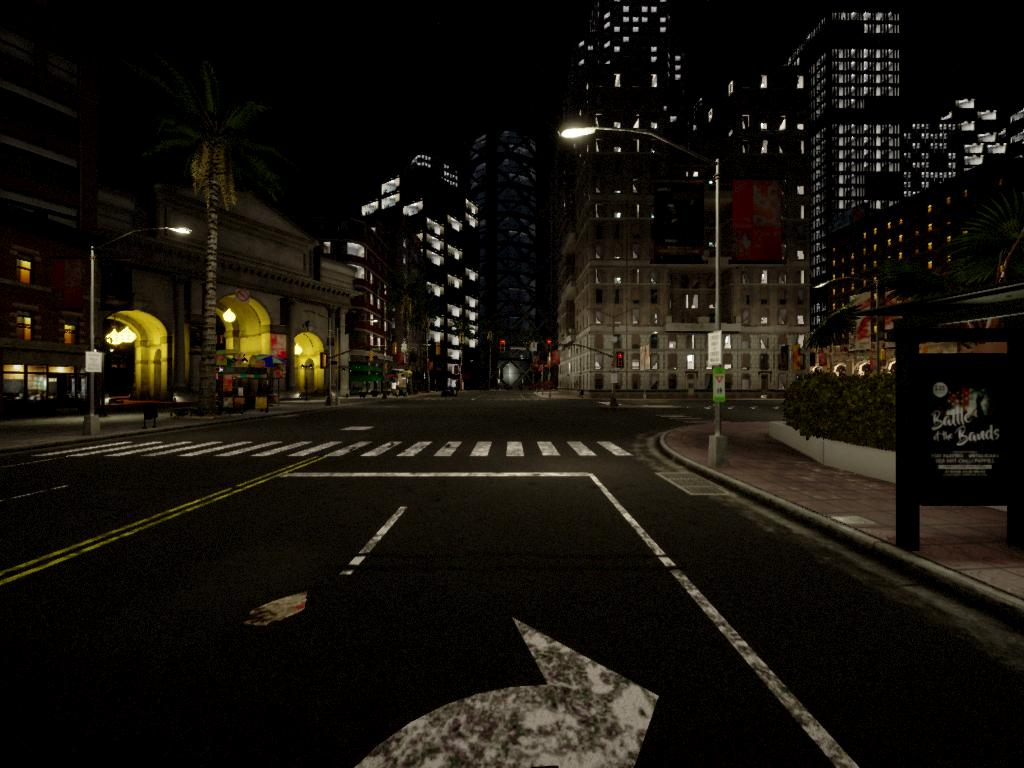traffic_light: (615, 354, 625, 369), (500, 340, 507, 354), (546, 340, 553, 354), (436, 344, 441, 356), (394, 343, 399, 355)
